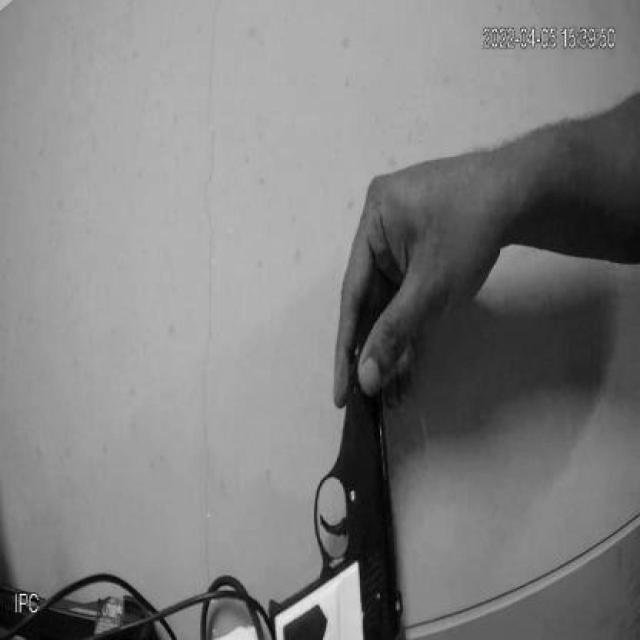weapon: (267, 324, 406, 640)
